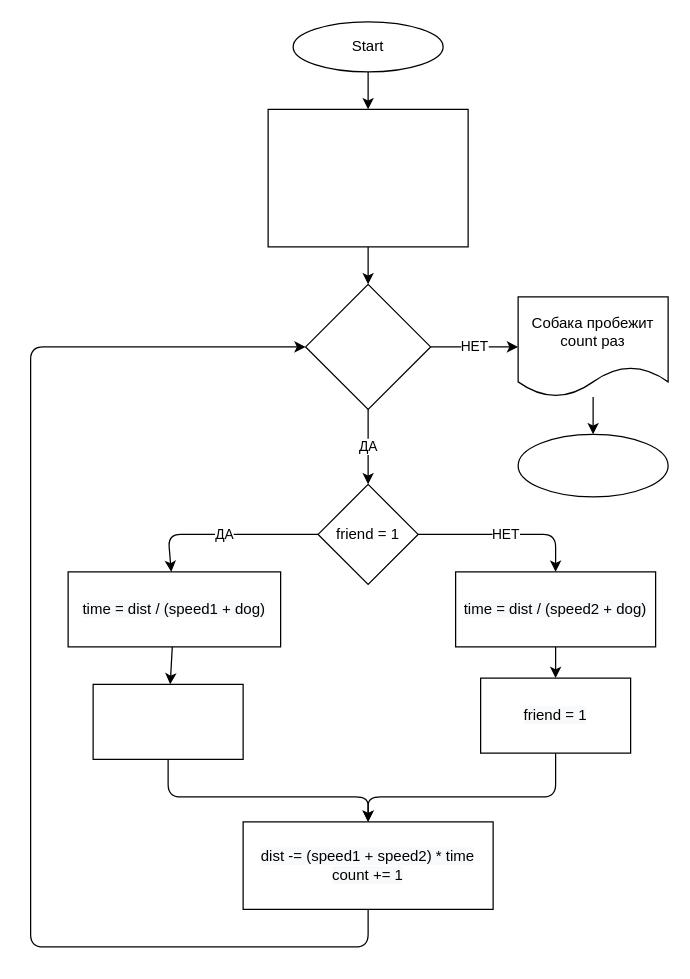
The diagram is 690 pixels wide and 979 high, and some of its shapes have lost their labels. Each missing label, with the centre of its shape:
"count = 0 dist = 10000 speed1 = 1 speed2 = 2 dog = 5 friend= 2 time = 0" goes at pixel 367 177.
"Dist > 10" goes at pixel 367 346.
"End" goes at pixel 592 465.
"friend = 2" goes at pixel 167 721.
